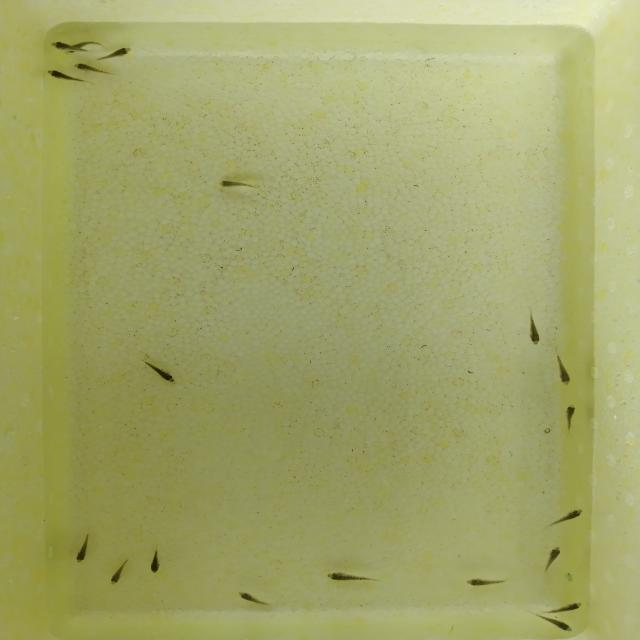fingerling: (134, 357, 184, 387), (542, 503, 586, 530), (552, 349, 576, 388), (538, 542, 564, 577), (523, 307, 545, 348), (322, 570, 384, 584), (106, 556, 134, 587), (233, 589, 276, 609), (72, 528, 94, 566), (214, 176, 260, 193), (558, 401, 580, 435), (146, 542, 164, 576), (464, 576, 511, 589), (48, 40, 91, 54), (549, 600, 588, 615), (540, 618, 575, 634), (103, 45, 136, 61), (72, 62, 102, 75), (46, 68, 68, 81)
